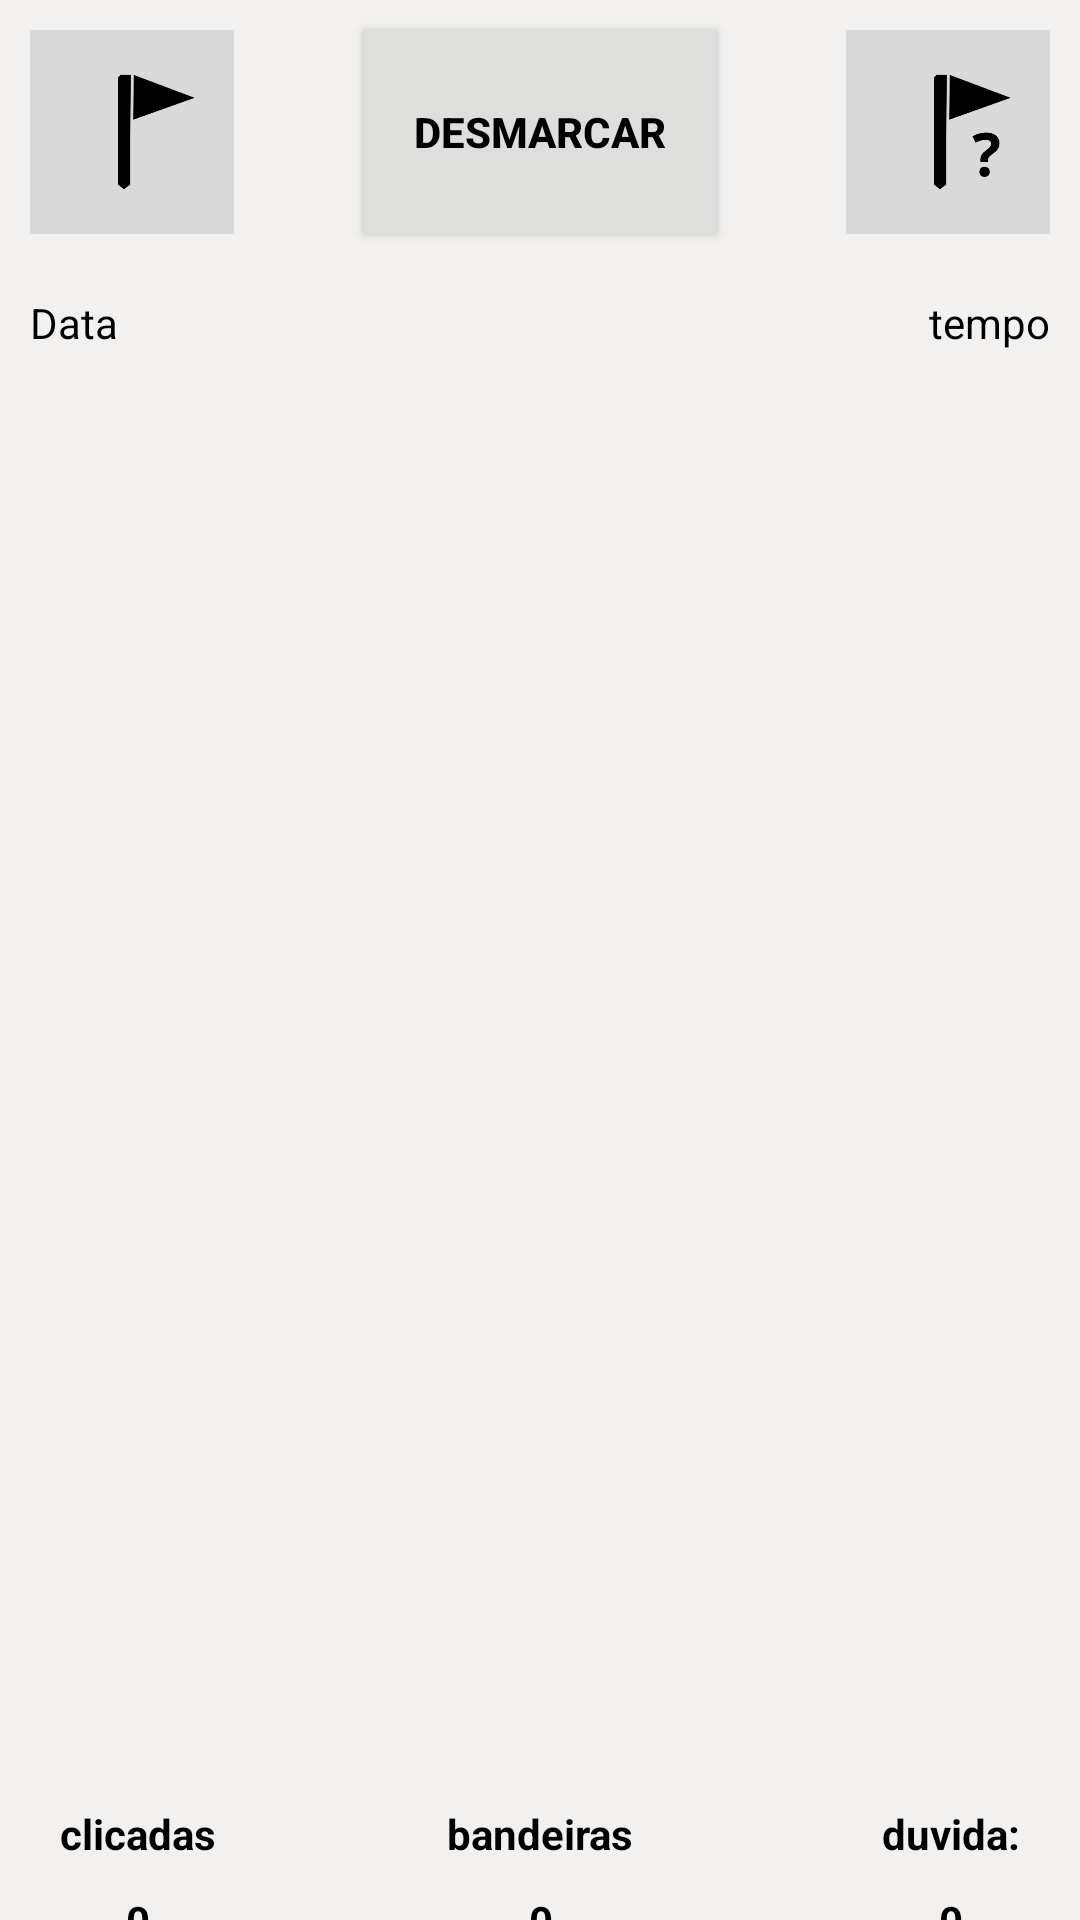

Point at icon controls on the screen. Image size 1080x1920, points as (x,y).
bandeira: (132,132)
duvida: (948,132)
